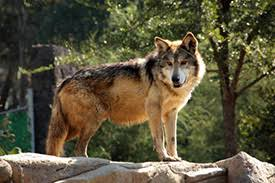Lobo: (34, 24, 216, 149)
